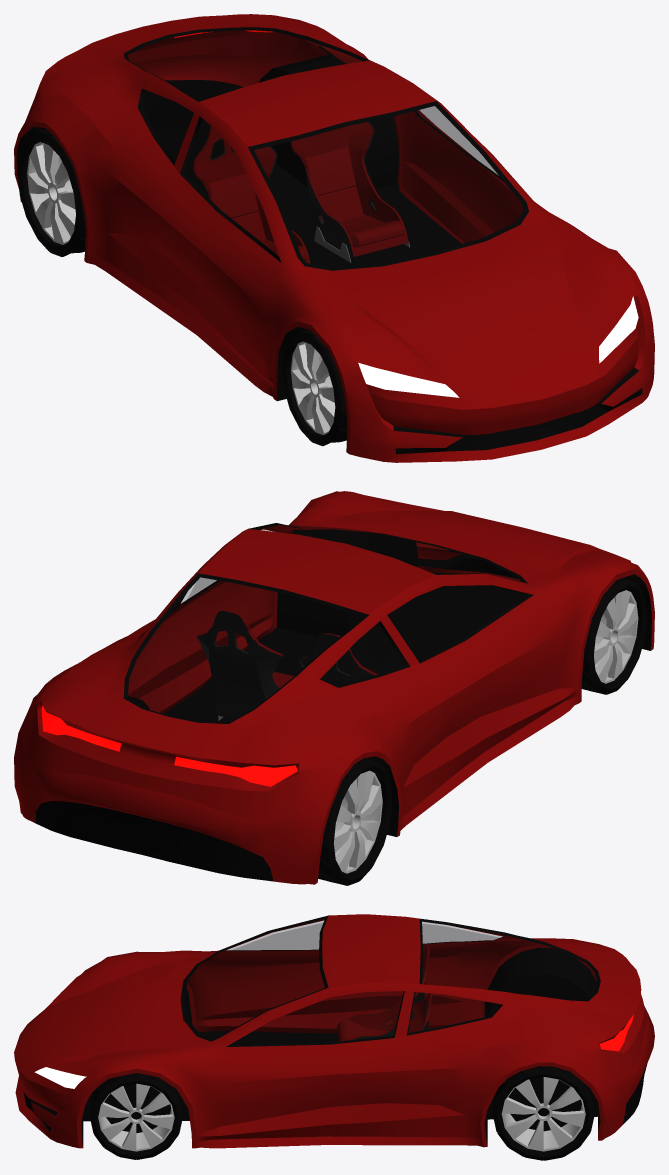
Rendered from Car.glb.
3 views of the same model, one above another, from view 1: azimuth 30°, elevation 25°; view 2: azimuth 150°, elevation 25°; view 3: azimuth 270°, elevation 25° (orthographic). The views are drawn at different scales.
Parts seen in each view (by area): view 1: Body, 21_Seats, Back Wheels.001, Front Wheels.001; view 2: Body, 21_Seats, Back Wheels.001, Front Wheels.001; view 3: Body, Back Wheels.001, Front Wheels.001, 21_Seats.
Part boxes in pixels (box(x1,y1,x2,y2)): Body: box(14, 14, 654, 462); 21_Seats: box(193, 121, 410, 263); Back Wheels.001: box(17, 128, 85, 256); Front Wheels.001: box(282, 329, 346, 446); Body: box(14, 491, 654, 884); 21_Seats: box(197, 610, 378, 720); Back Wheels.001: box(318, 758, 392, 885); Front Wheels.001: box(581, 578, 646, 694); Body: box(14, 914, 654, 1148); Back Wheels.001: box(493, 1066, 594, 1160); Front Wheels.001: box(90, 1073, 182, 1159); 21_Seats: box(337, 946, 432, 1041).
Bounding box in the file's own units: 2.02 × 1.22 × 4.52.
